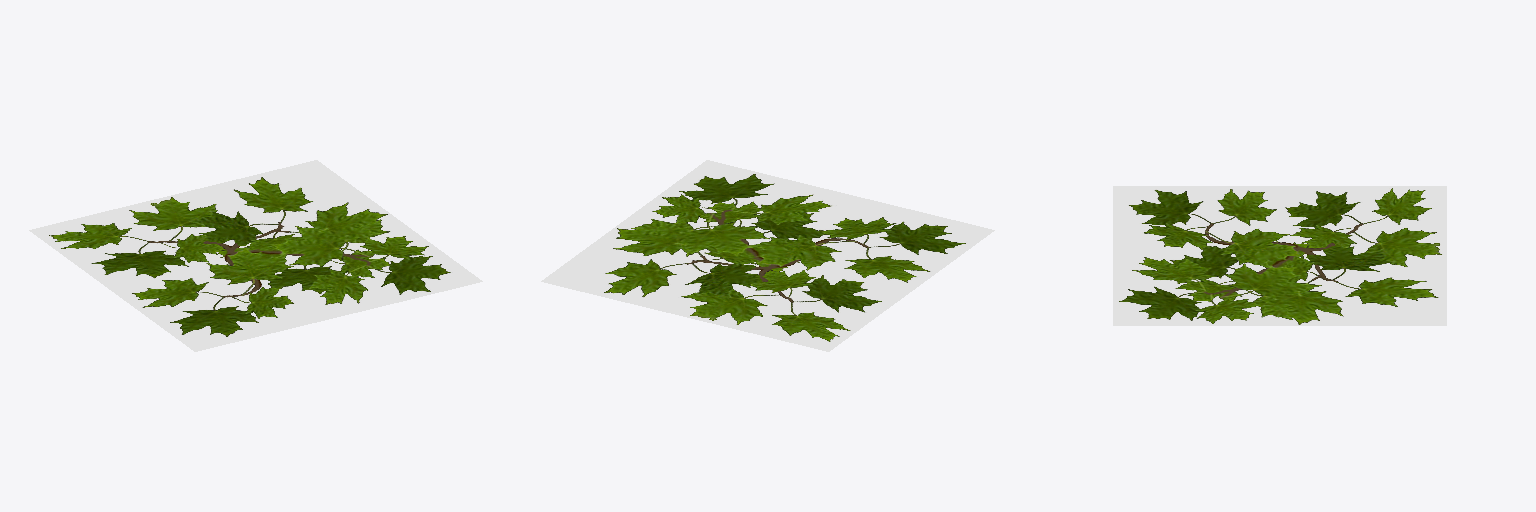
3 views of the same model, side by side, from view 1: azimuth 30°, elevation 25°; view 2: azimuth 150°, elevation 25°; view 3: azimuth 270°, elevation 25° (orthographic).
Visible parts, largest first — view 1: pPlane1; view 2: pPlane1; view 3: pPlane1.
Boxes of the visible parts, x1,y1,x2,y2 form: pPlane1: [29, 160, 482, 351]; pPlane1: [541, 160, 994, 351]; pPlane1: [1113, 186, 1446, 325].
Size of the model in its own units: 3.28 by 0 by 3.28.
1 materials, 1 textured.